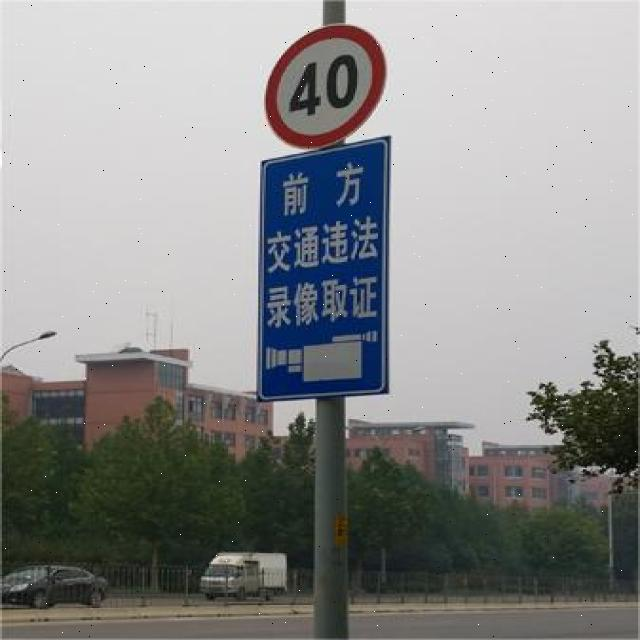speed limit 40: (265, 26, 387, 150)
